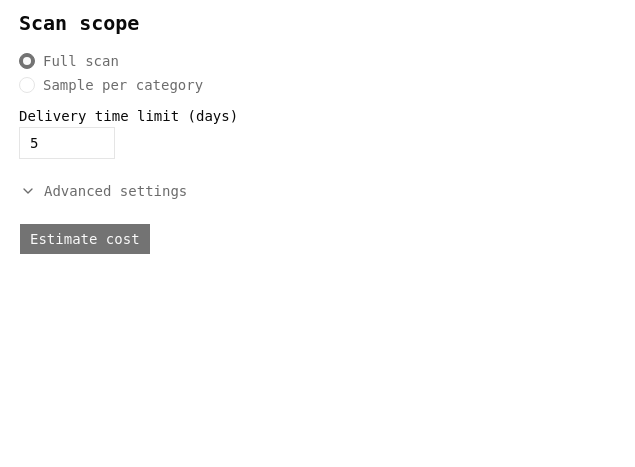
ScopeEstimateStep › keeps advanced settings collapsed by default, with plain-language help text once opened
Check: the field labelled "concurrency limit" is not shown
Check: the field labelled "staleness threshold" is not shown
Click the button "Advanced settings" at x=104, y=191, box [19,175,188,207]
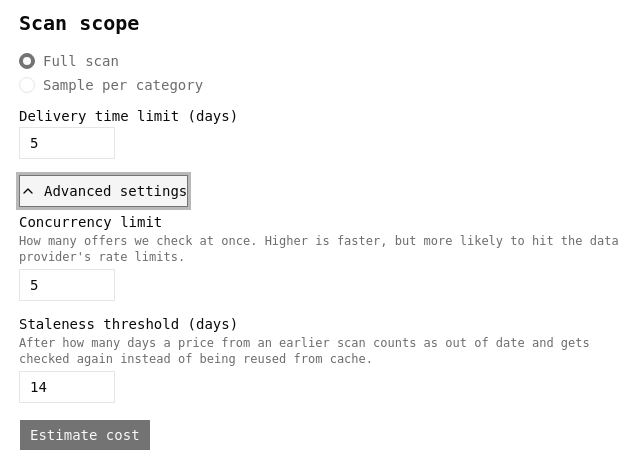
Check: the number field labelled "Concurrency limit" holds "5", box [19,269,115,301]
Check: the number field labelled "Staleness threshold (days)" holds "14", box [19,371,115,403]
